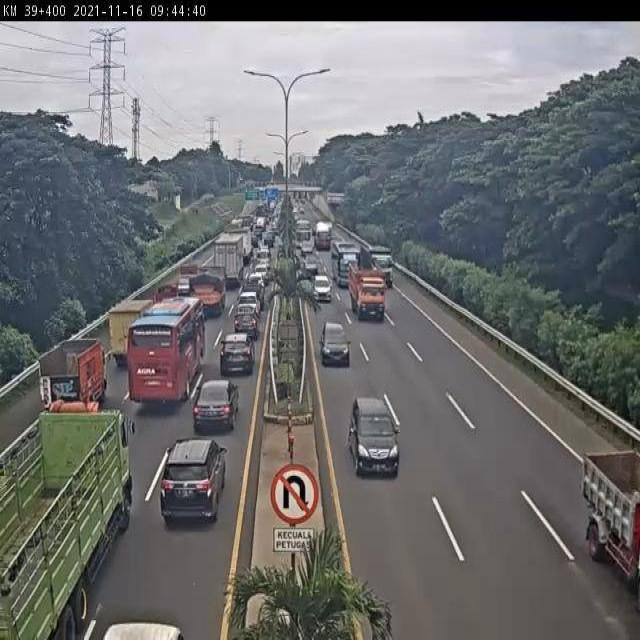big bus: (128, 298, 206, 402)
car: (161, 438, 228, 522), (346, 393, 401, 478), (192, 379, 237, 432), (317, 319, 353, 368), (218, 333, 253, 375), (232, 312, 259, 339), (313, 270, 333, 306), (238, 292, 260, 316)
small truck: (578, 449, 640, 616), (35, 339, 105, 412), (105, 298, 155, 371)
truck-l-: (2, 409, 136, 640)
truck-m-: (346, 262, 385, 322), (191, 265, 227, 316)
